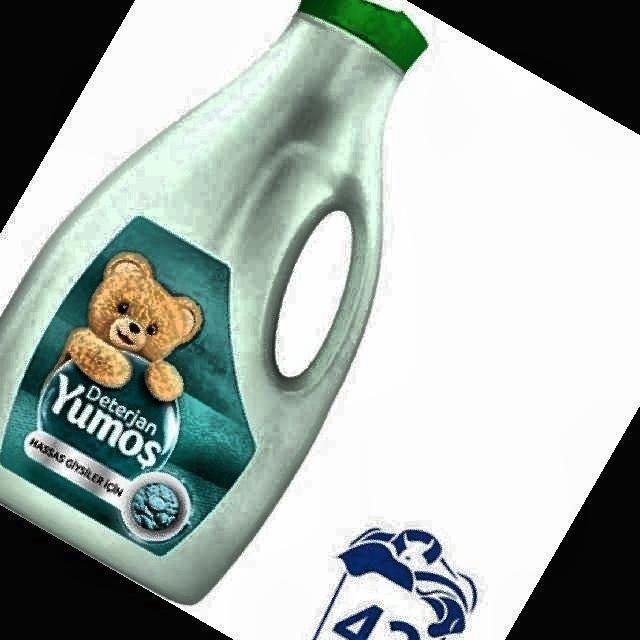plastic: (0, 0, 426, 602)
